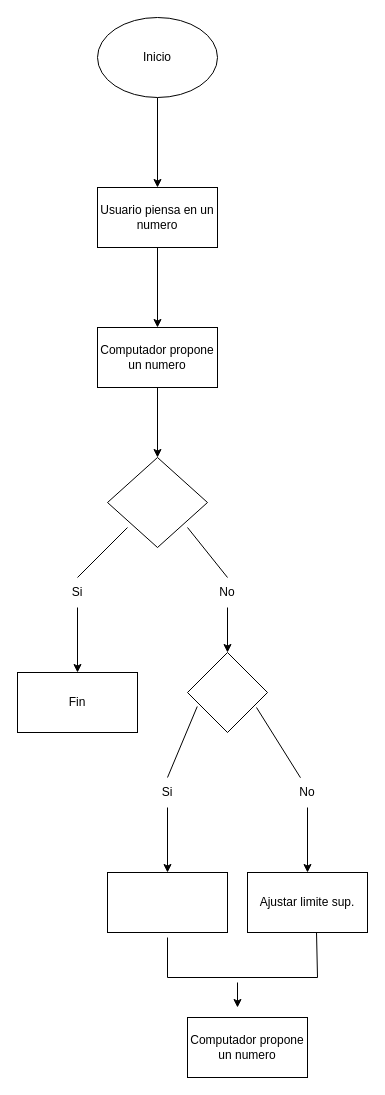
This 385x1095 diagram has some shape labels left out. The shapes that lost their labels are listed below. From the top down, each one's centre as x and y in pixels, then its label:
At point (157, 502): "¿Es correcto?".
At point (227, 692): "¿Es mayor?".
At point (167, 902): "Ajustar limite inf.".
